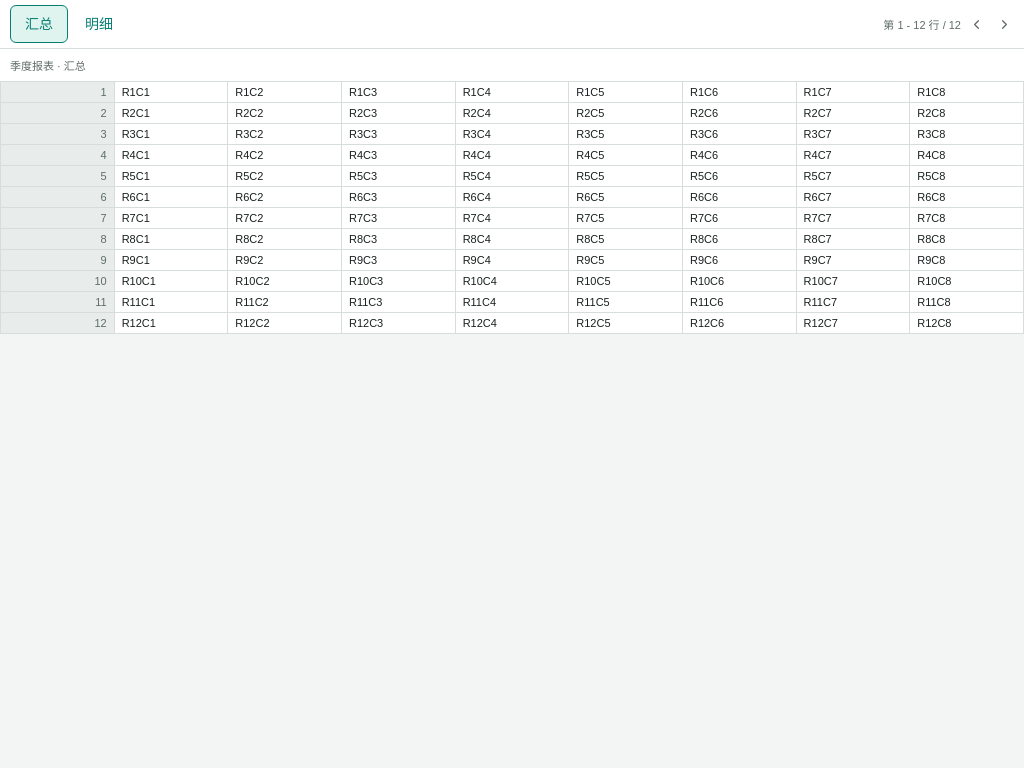
Scenario: CSV/XLSX 表格预览 › resets to the first row when switching sheets and marks the active tab
Click the tab "明细".
click(99, 24)  # box [70,5,128,43]
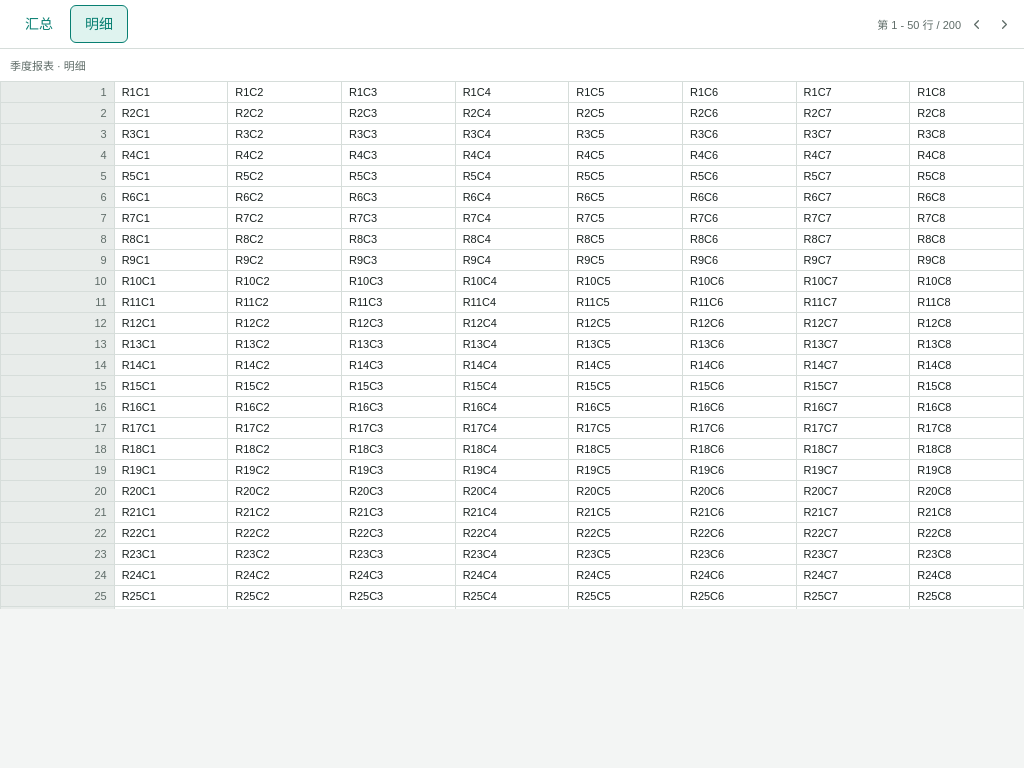
Expected: the text "第 1 - 50 行 / 200" is shown, [877,16,961,32]
Click the button named "表格下一页".
click(1004, 24)  # box [991,11,1017,37]
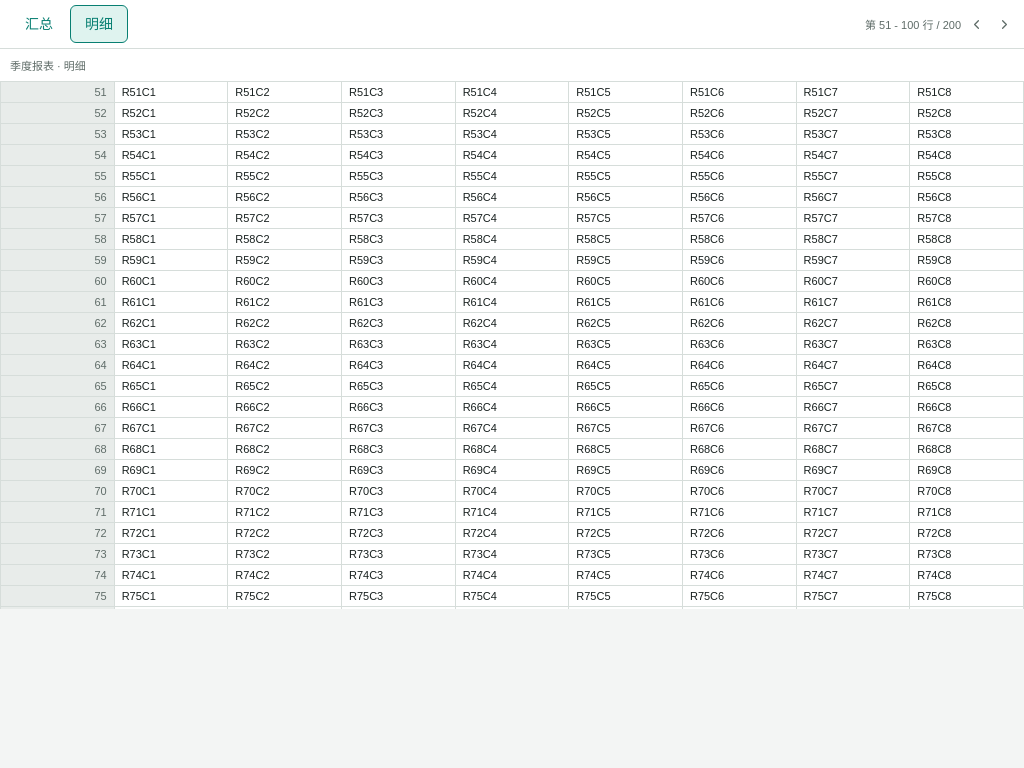
Expected: the text "第 51 - 100 行 / 200" is shown, [865,16,961,32]
Click the tab "汇总".
click(39, 24)  # box [10,5,68,43]
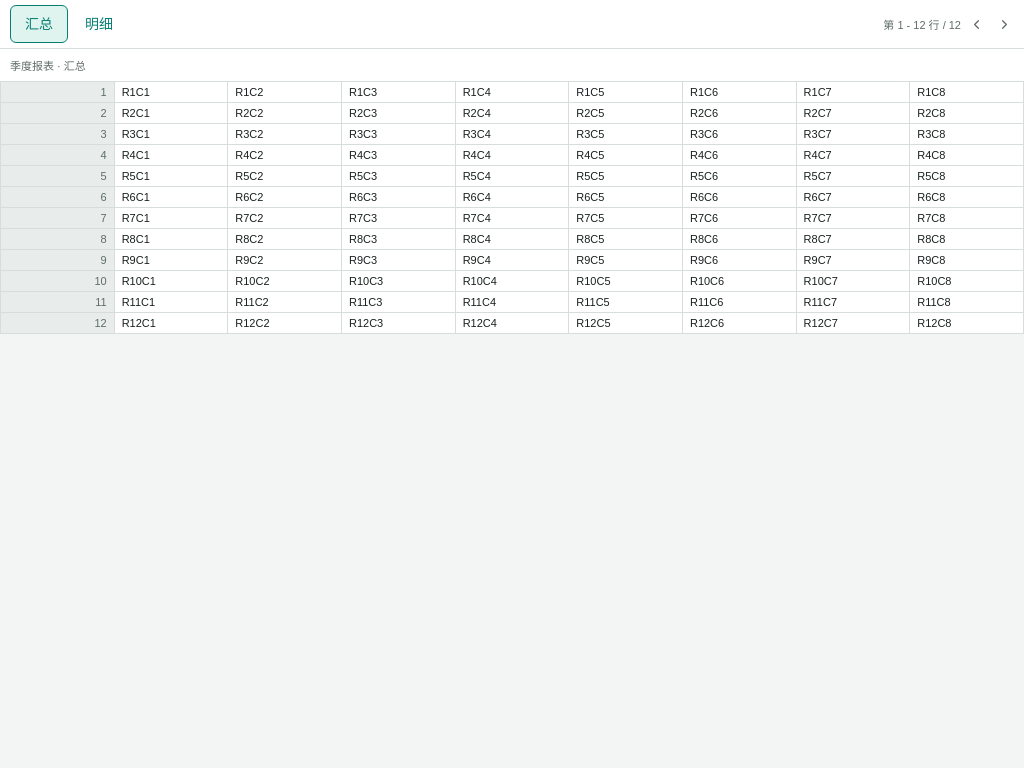
Expected: the text "第 1 - 12 行 / 12" is shown, [883,16,961,32]
